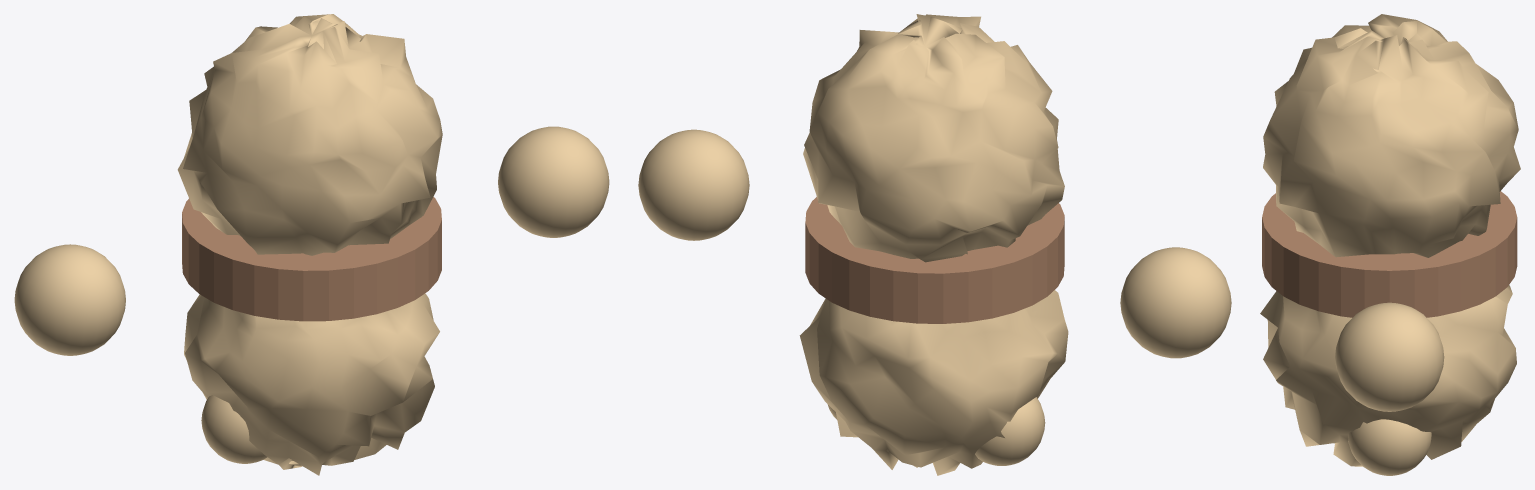
Rendered from clay_burger.glb.
3 renders of one model, left to right at view 1: azimuth 30°, elevation 25°; view 2: azimuth 150°, elevation 25°; view 3: azimuth 270°, elevation 25°, orthographic. The views are drawn at different scales.
Parts seen in each view (by area): view 1: leg.001; view 2: leg.001; view 3: leg.001.
Boxes of the visible parts, bbox=[...] form: leg.001: bbox=[14, 14, 609, 475]; leg.001: bbox=[638, 14, 1231, 475]; leg.001: bbox=[1260, 14, 1520, 475].
Size of the model in its own units: 2.16 by 1.56 by 0.8591.
